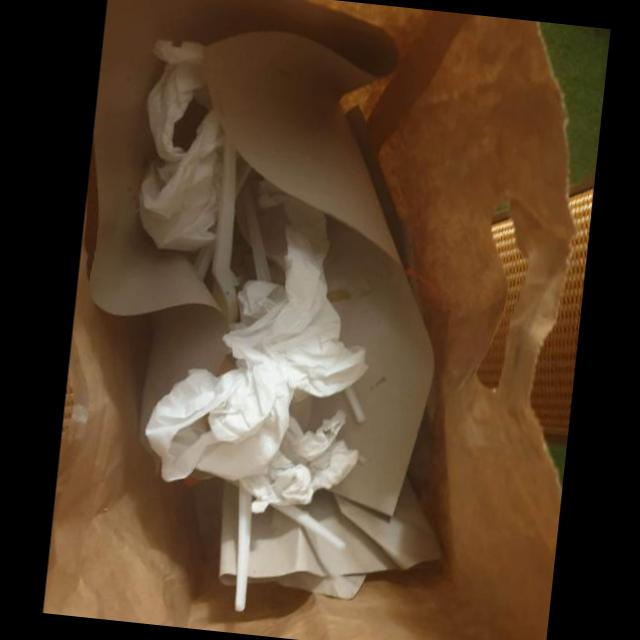giay: (84, 0, 443, 613), (144, 182, 368, 505), (138, 40, 224, 252)
